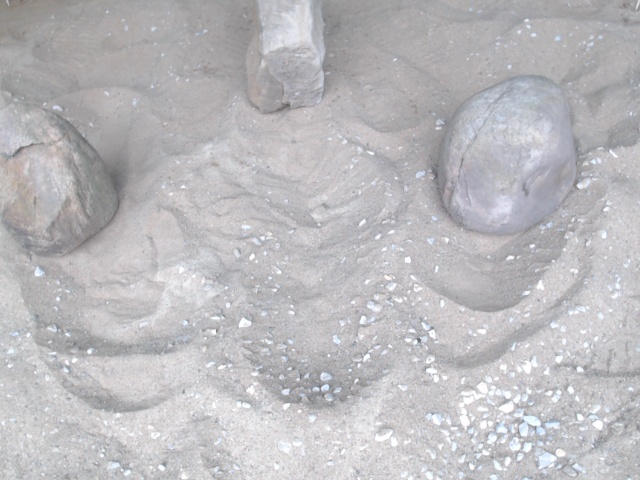rock: (433, 70, 582, 240), (1, 87, 123, 262), (240, 1, 332, 119)
